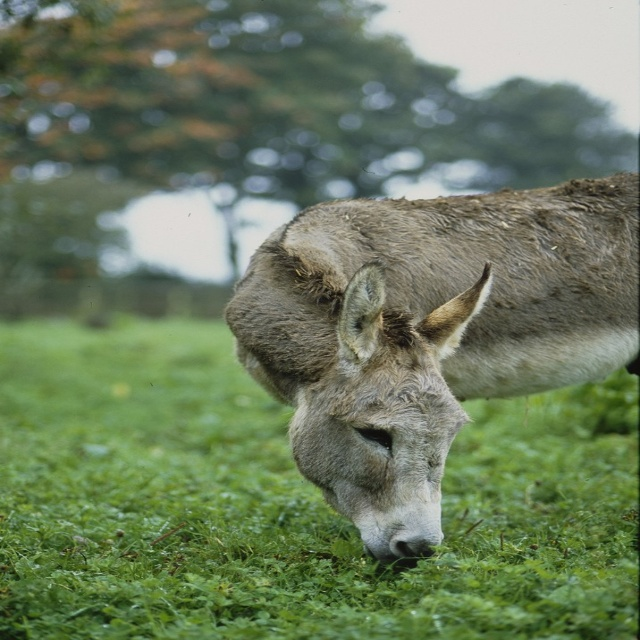Mule: (222, 174, 639, 564)
